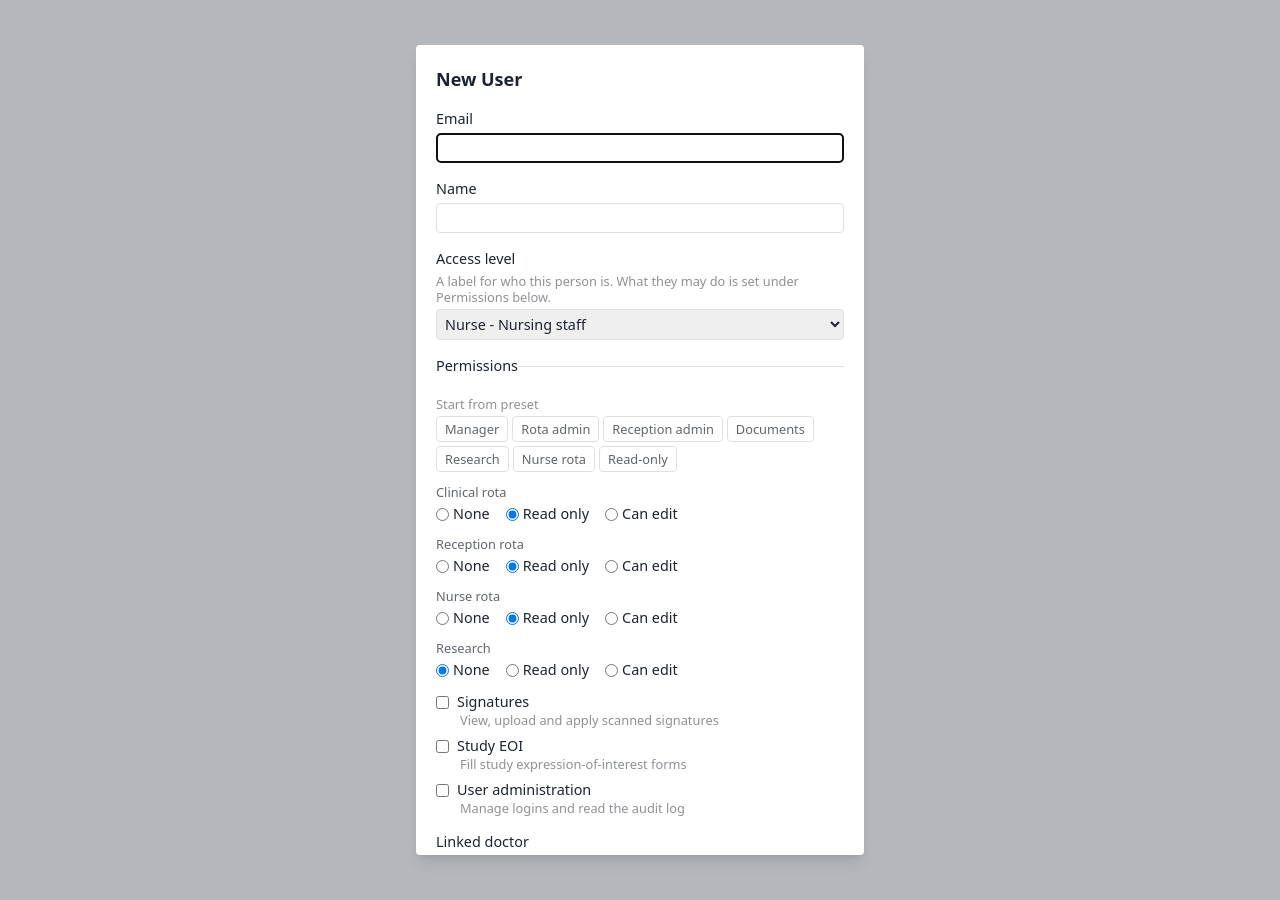
Test case: UserFormDialog - create mode › a 409 duplicate-email conflict is shown as a top-of-form banner
The width and height of the screenshot is (1280, 900).
Type "cara@example.com" into the field labelled "Email" at (640, 148), box x1=436 y1=133 x2=844 y2=163
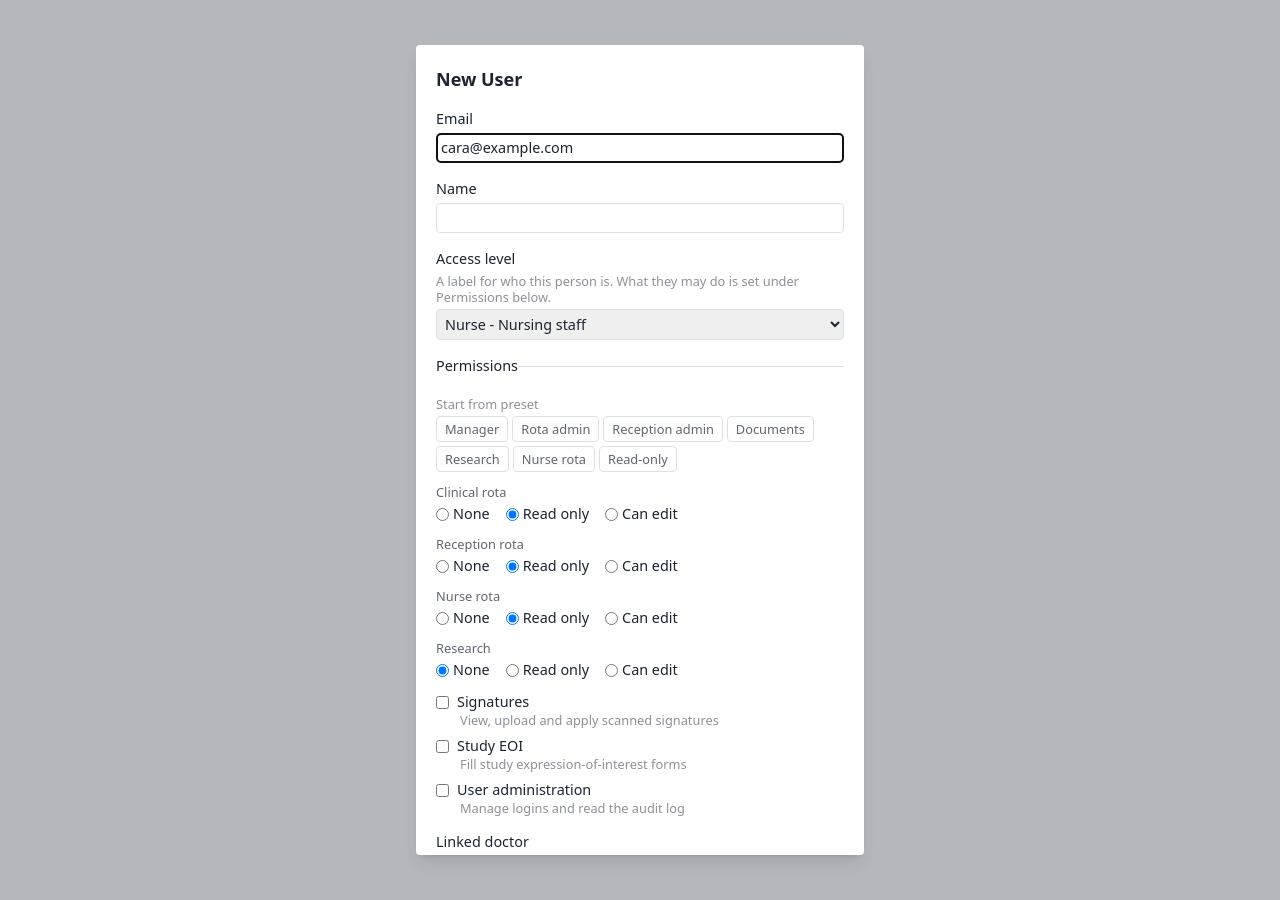
Type "Cara" into the field labelled "Name" at (640, 218), box x1=436 y1=203 x2=844 y2=233
(page scrolled)
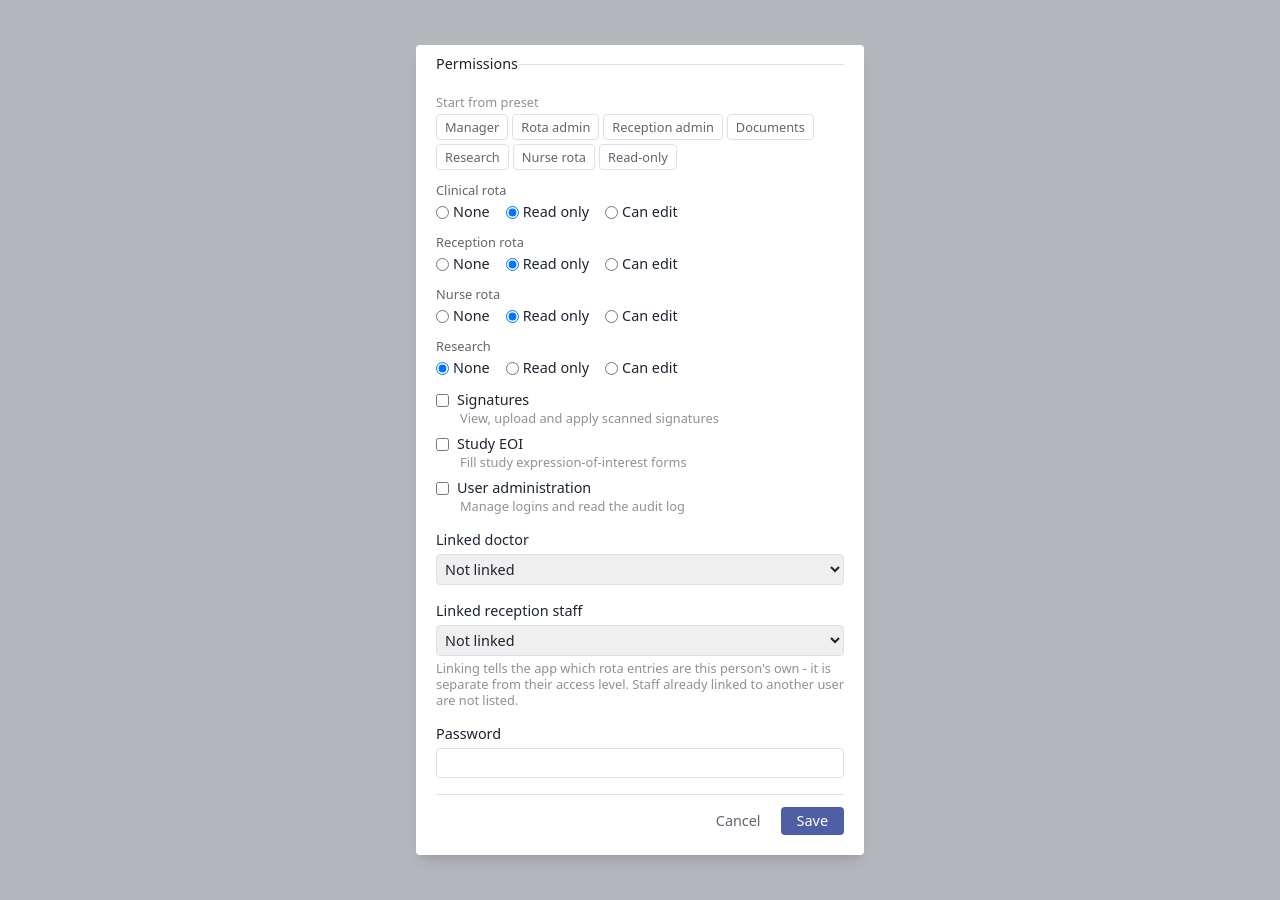
Type "password1" into the password field labelled "Password" at (640, 763), box x1=436 y1=748 x2=844 y2=778
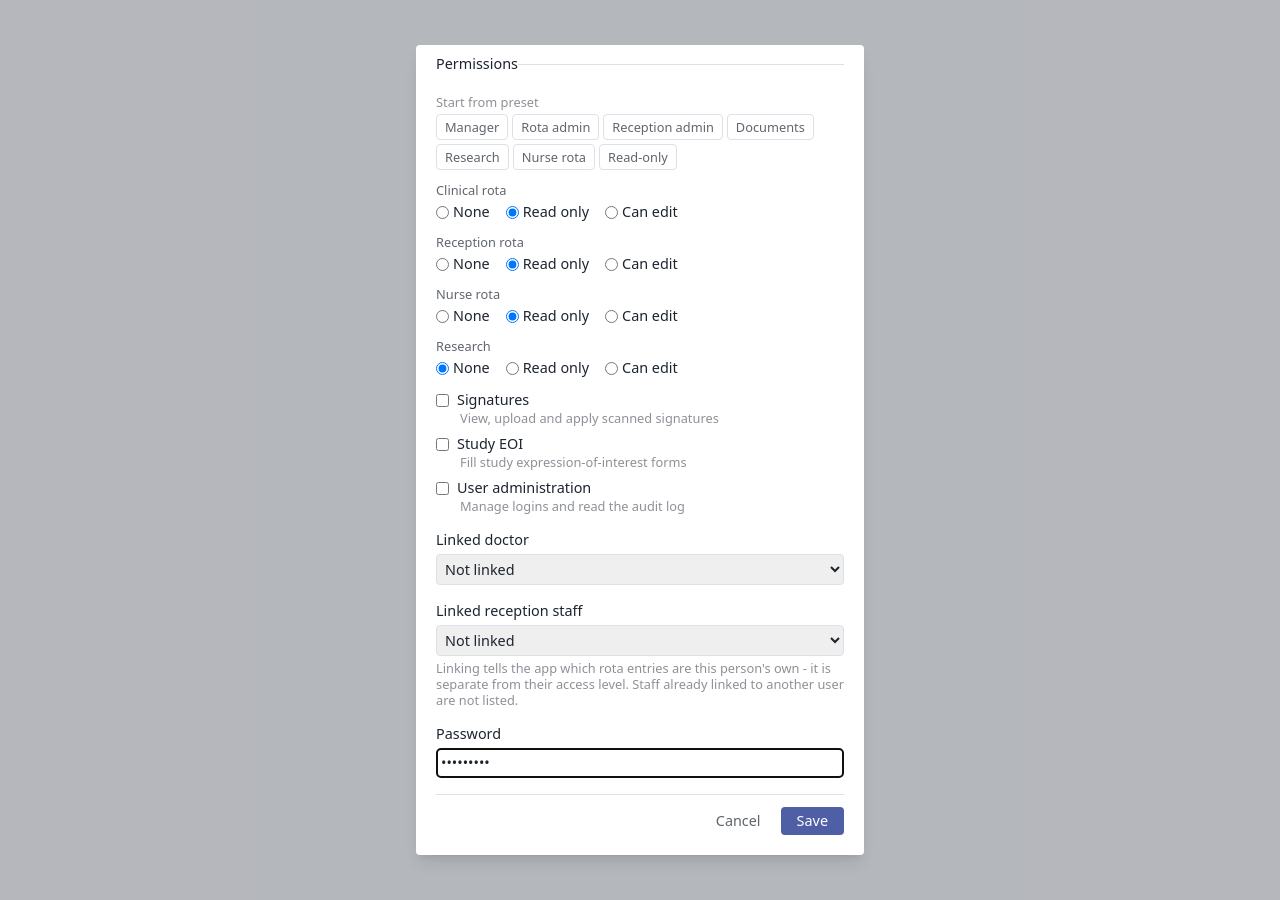
Click the button "Save" at (812, 821), box x1=781 y1=807 x2=844 y2=835
(page scrolled)
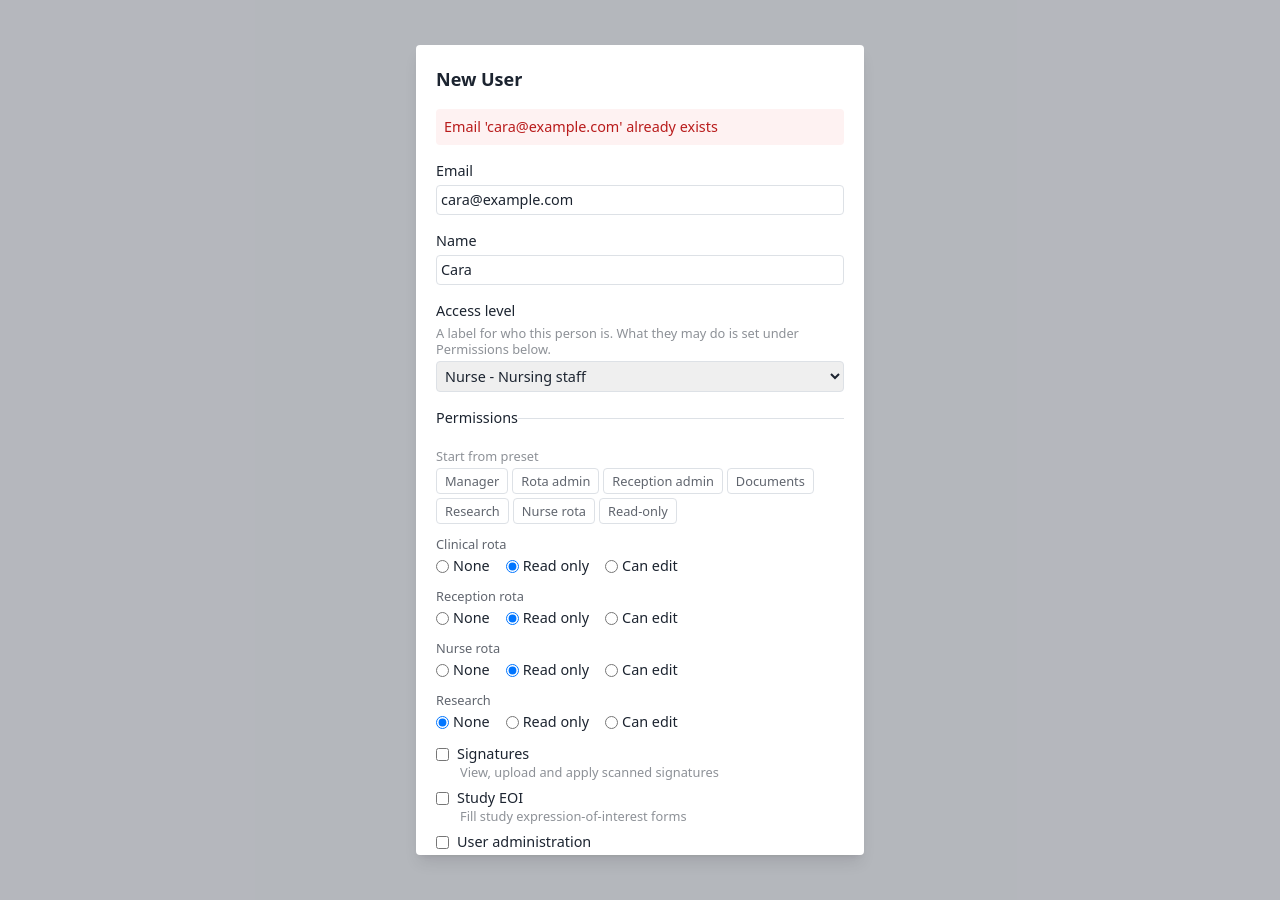
Expected: the text "Email 'cara@example.com' already exists" is shown, x1=436 y1=109 x2=844 y2=145
